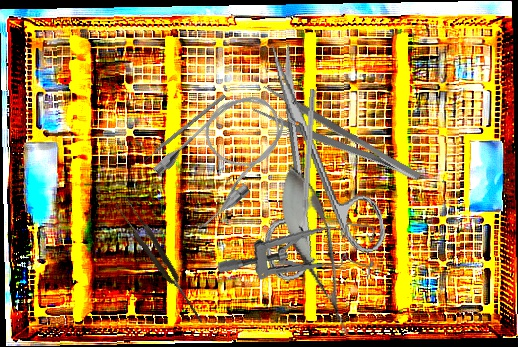Cannula: (146, 79, 304, 235)
Chopper: (291, 88, 317, 234)
Dressing Forceps: (250, 83, 424, 198)
Iris Scissors: (224, 30, 392, 284)
Micro Scissor: (265, 158, 368, 344)
Pusher: (137, 93, 227, 167)
Speculum: (215, 206, 380, 294)
Tissue Forceps: (113, 195, 209, 328)
